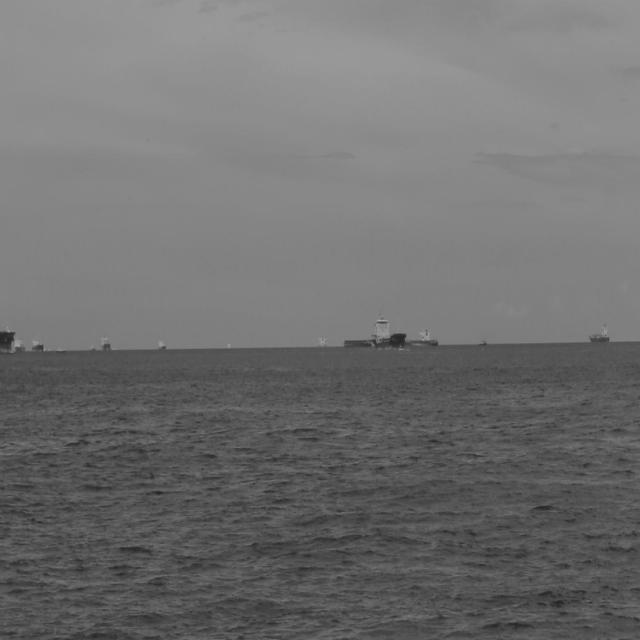ship: (339, 317, 401, 355), (342, 316, 406, 351), (403, 330, 438, 346), (592, 320, 614, 344), (0, 325, 18, 354), (591, 325, 613, 345), (27, 336, 45, 356), (99, 334, 112, 353), (13, 337, 23, 355), (156, 336, 166, 351)
